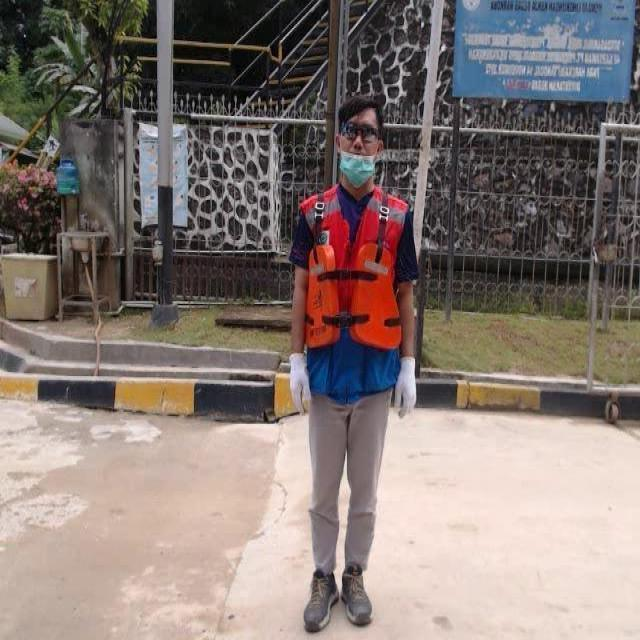gloves: (388, 357, 418, 421), (286, 350, 312, 417)
goggles: (336, 123, 380, 142)
safety_vest: (300, 183, 407, 400)
